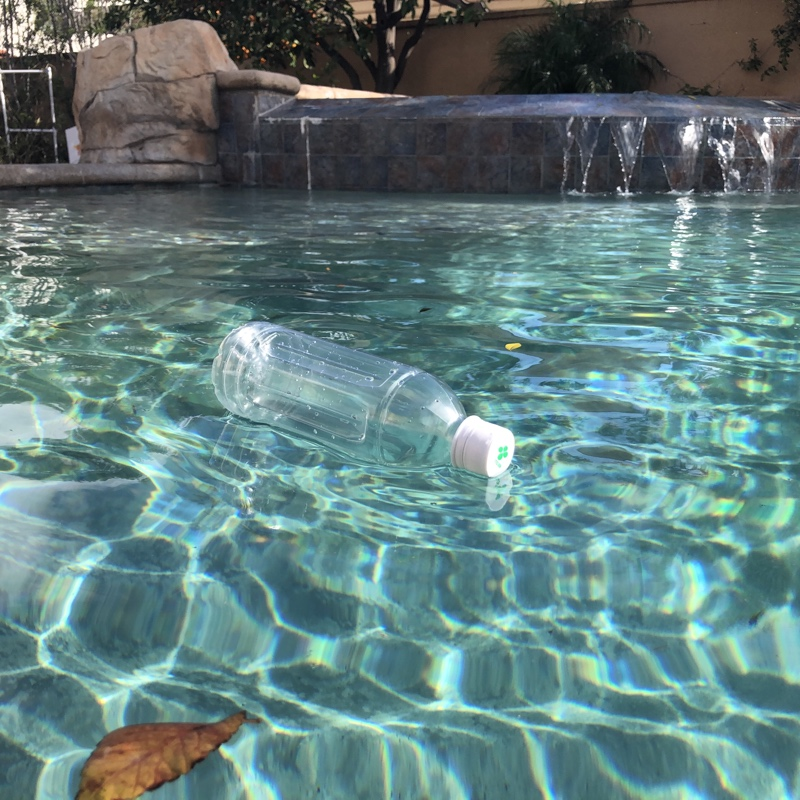Plastic Bottle: (210, 312, 517, 489)
